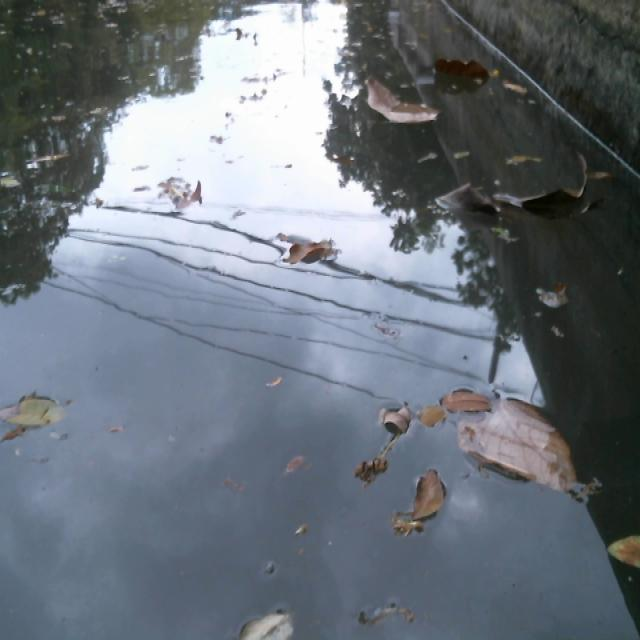Big-leaf: (461, 399, 588, 499), (348, 66, 452, 151), (498, 181, 598, 237), (435, 176, 501, 236), (429, 47, 508, 92)
Small-leaf: (0, 385, 66, 442), (357, 587, 425, 634), (275, 225, 336, 273), (232, 607, 315, 640), (154, 171, 212, 217), (523, 279, 570, 332), (595, 525, 640, 577), (411, 468, 445, 523), (360, 432, 395, 485), (375, 398, 423, 435), (391, 505, 425, 556), (285, 449, 313, 503), (501, 68, 532, 113), (415, 395, 448, 437), (229, 25, 280, 52), (443, 388, 492, 416), (502, 147, 548, 173), (292, 517, 311, 562), (262, 365, 284, 400), (447, 147, 472, 166)
